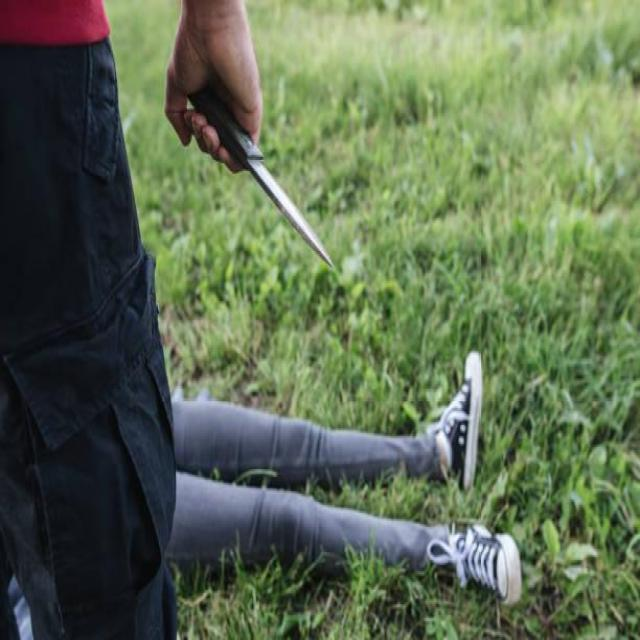faca: (161, 12, 337, 280)
